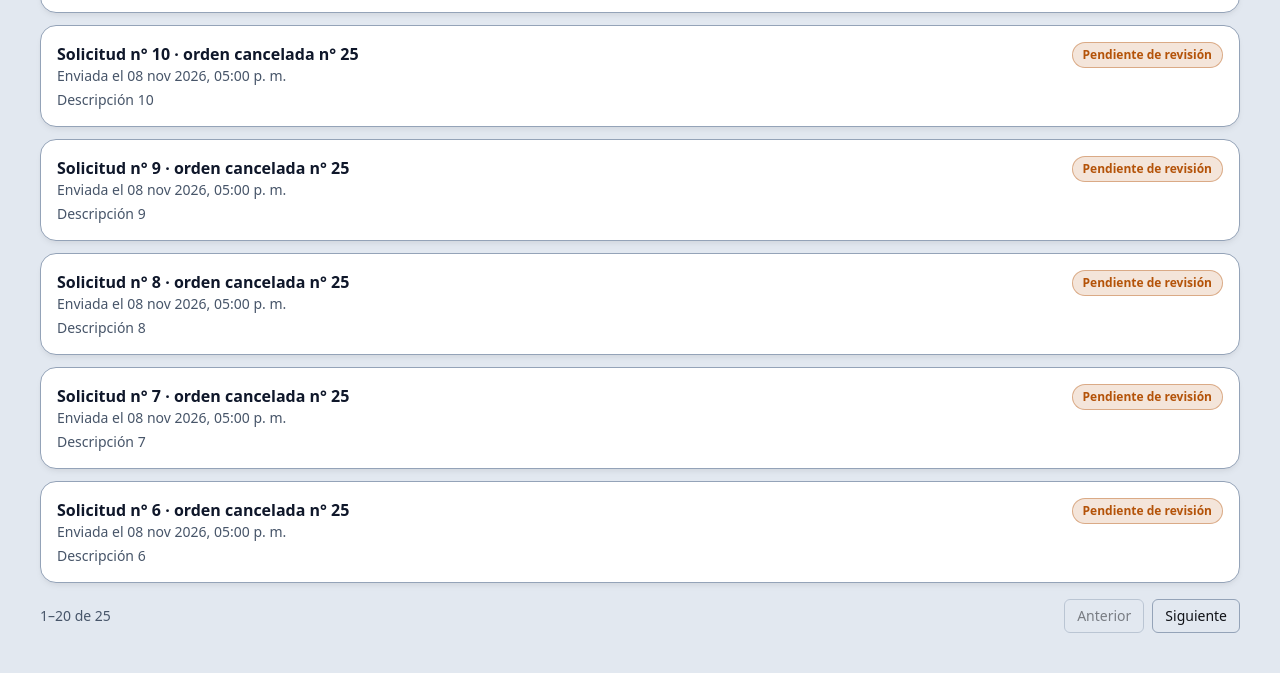
it: ClientNuevasAtencionesPage › pagina en el servidor con limit 20 y offset
(page scrolled)
expect the text "1–20 de 25" is shown: met, box [40,606,111,626]
expect the button "Anterior" is disabled: met, box [1064,599,1144,633]
Click the button "Siguiente" at (1196, 616), box [1152,599,1240,633]
(page scrolled)
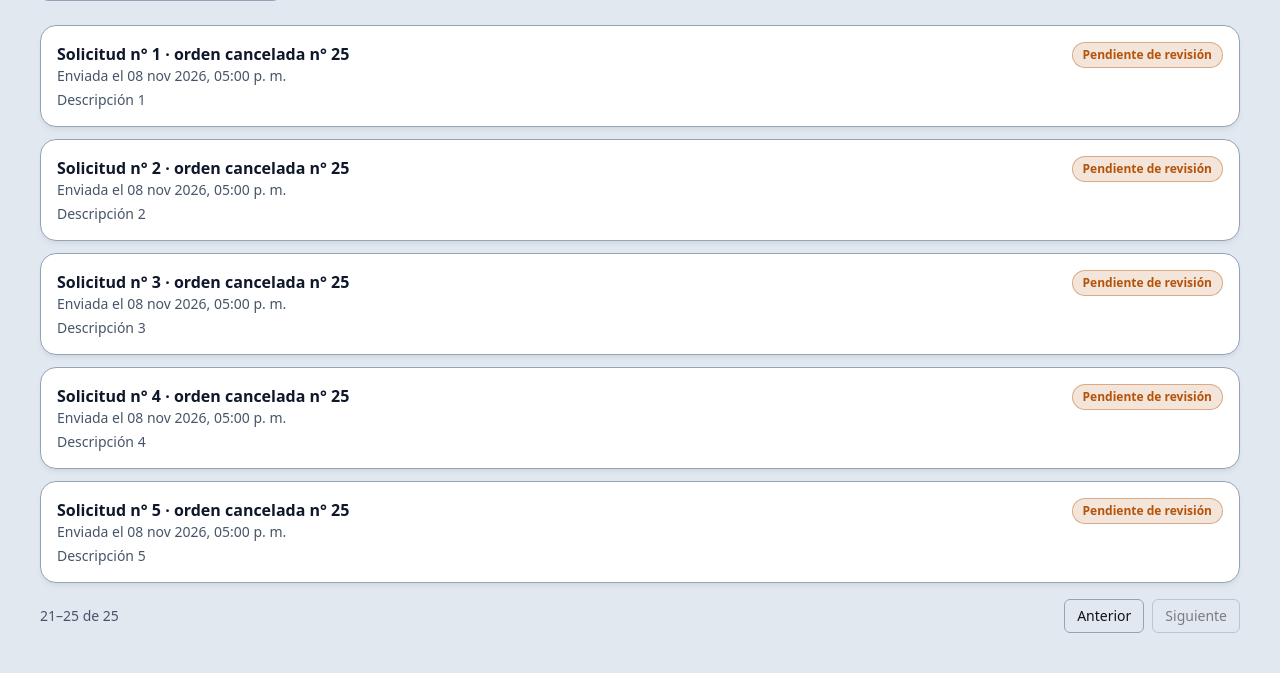
expect the text "21–25 de 25" is shown: met, box [40,606,119,626]
expect the button "Siguiente" is disabled: met, box [1152,599,1240,633]
